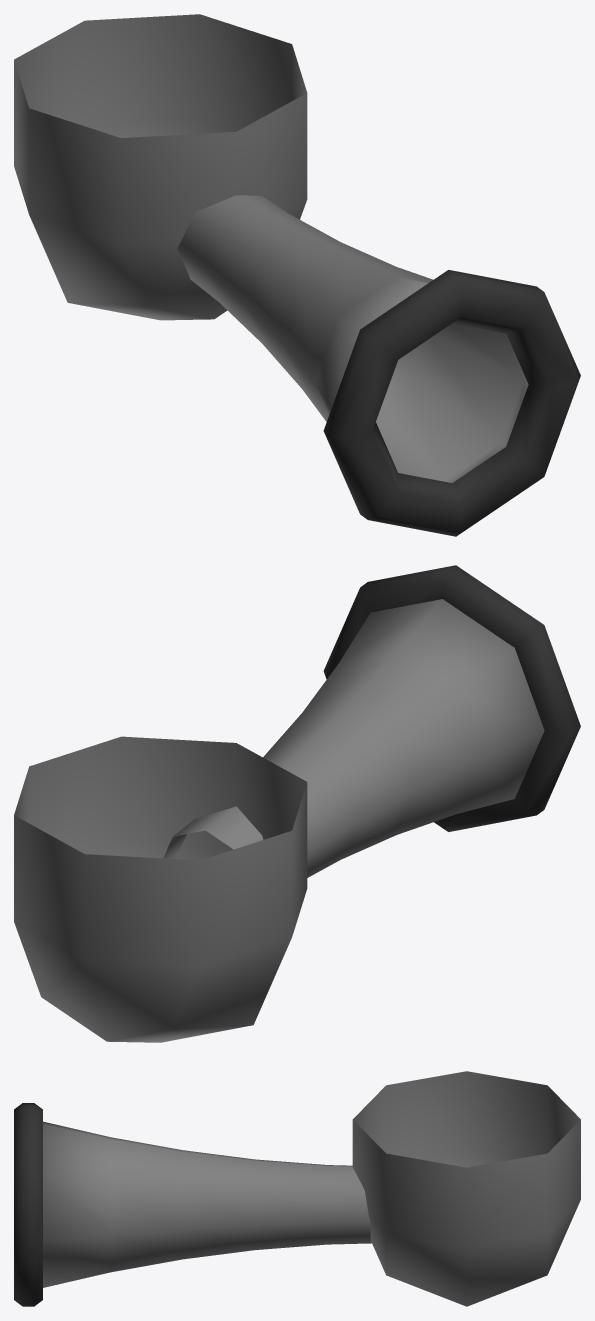
The model's file is Turret_01_H.fbx.
The picture shows the model from 3 angles, top to bottom: view 1: azimuth 30°, elevation 25°; view 2: azimuth 150°, elevation 25°; view 3: azimuth 270°, elevation 25°; orthographic projection. The views are drawn at different scales.
Parts seen in each view (by area): view 1: Object001; view 2: Object001; view 3: Object001.
Part boxes in pixels (bbox=[...]): Object001: bbox=[14, 14, 580, 536]; Object001: bbox=[14, 565, 580, 1042]; Object001: bbox=[14, 1071, 580, 1306].
Size of the model in its own units: 14.96 by 14.21 by 37.17.
1 material, 1 textured.
